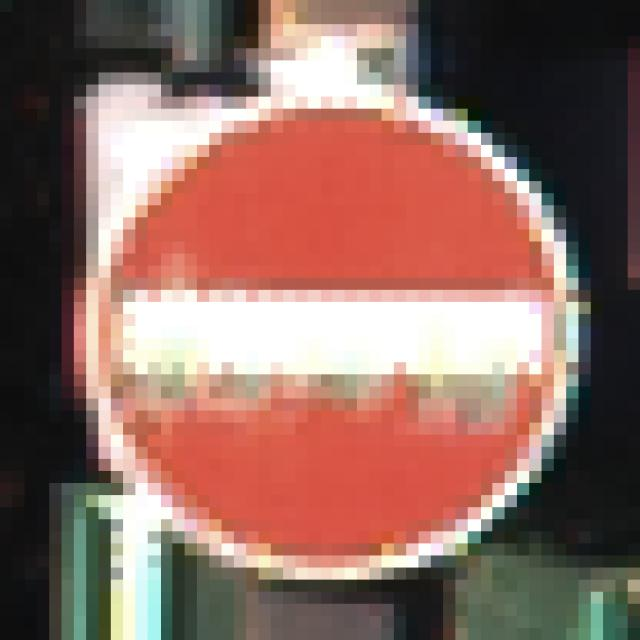No Entry: (75, 74, 579, 581)
